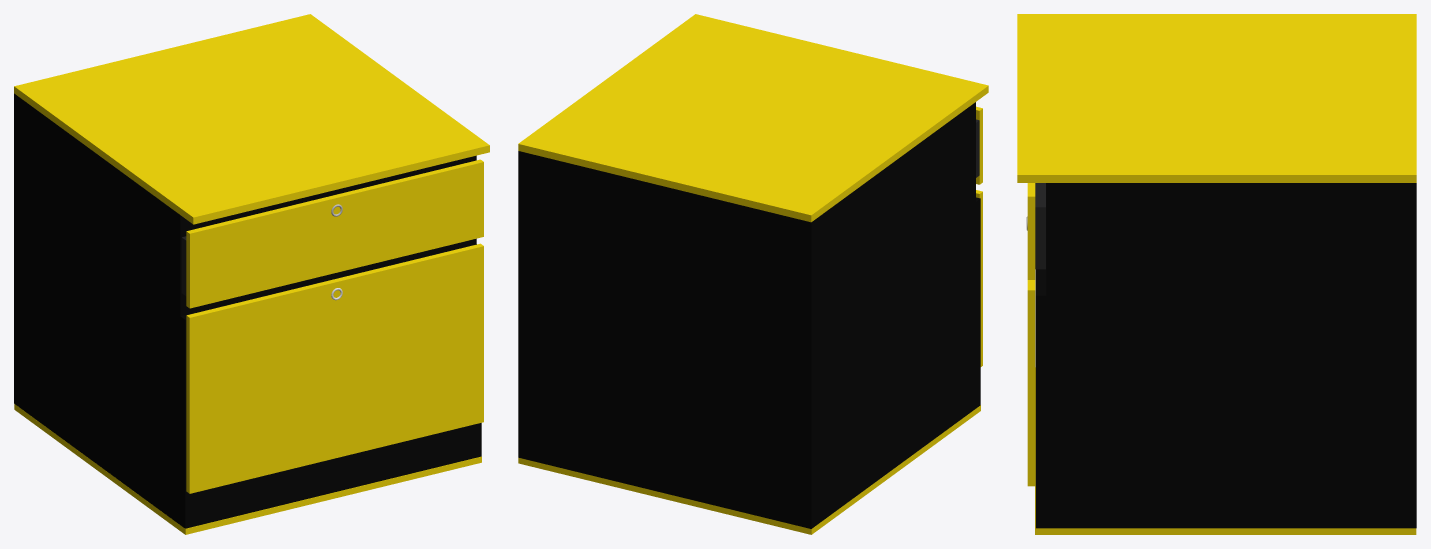
The model's file is EncimeraAmarillo.fbx.
3 views of the same model, side by side, from view 1: azimuth 30°, elevation 25°; view 2: azimuth 150°, elevation 25°; view 3: azimuth 270°, elevation 25° (orthographic). The views are drawn at different scales.
Parts seen in each view (by area): view 1: Cube, Cube.001, Cube.003, Cube.002, Cube.053; view 2: Cube, Cube.001, Cube.053, Cube.003; view 3: Cube, Cube.001, Cube.053, Cube.003, Cube.004, Cube.002.
Part boxes in pixels (x1,y1,x2,y2): Cube: (14, 93, 481, 528); Cube.001: (14, 14, 489, 224); Cube.003: (186, 243, 483, 493); Cube.002: (186, 159, 483, 308); Cube.053: (14, 404, 481, 534); Cube: (518, 102, 980, 528); Cube.001: (518, 14, 988, 222); Cube.053: (518, 405, 980, 534); Cube.003: (976, 190, 982, 366); Cube: (1035, 183, 1416, 528); Cube.001: (1017, 14, 1416, 182); Cube.053: (1035, 367, 1416, 534); Cube.003: (1027, 280, 1035, 486); Cube.004: (1035, 183, 1045, 269); Cube.002: (1027, 183, 1035, 279).
Size of the model in its own units: 70 by 72.94 by 73.36.
